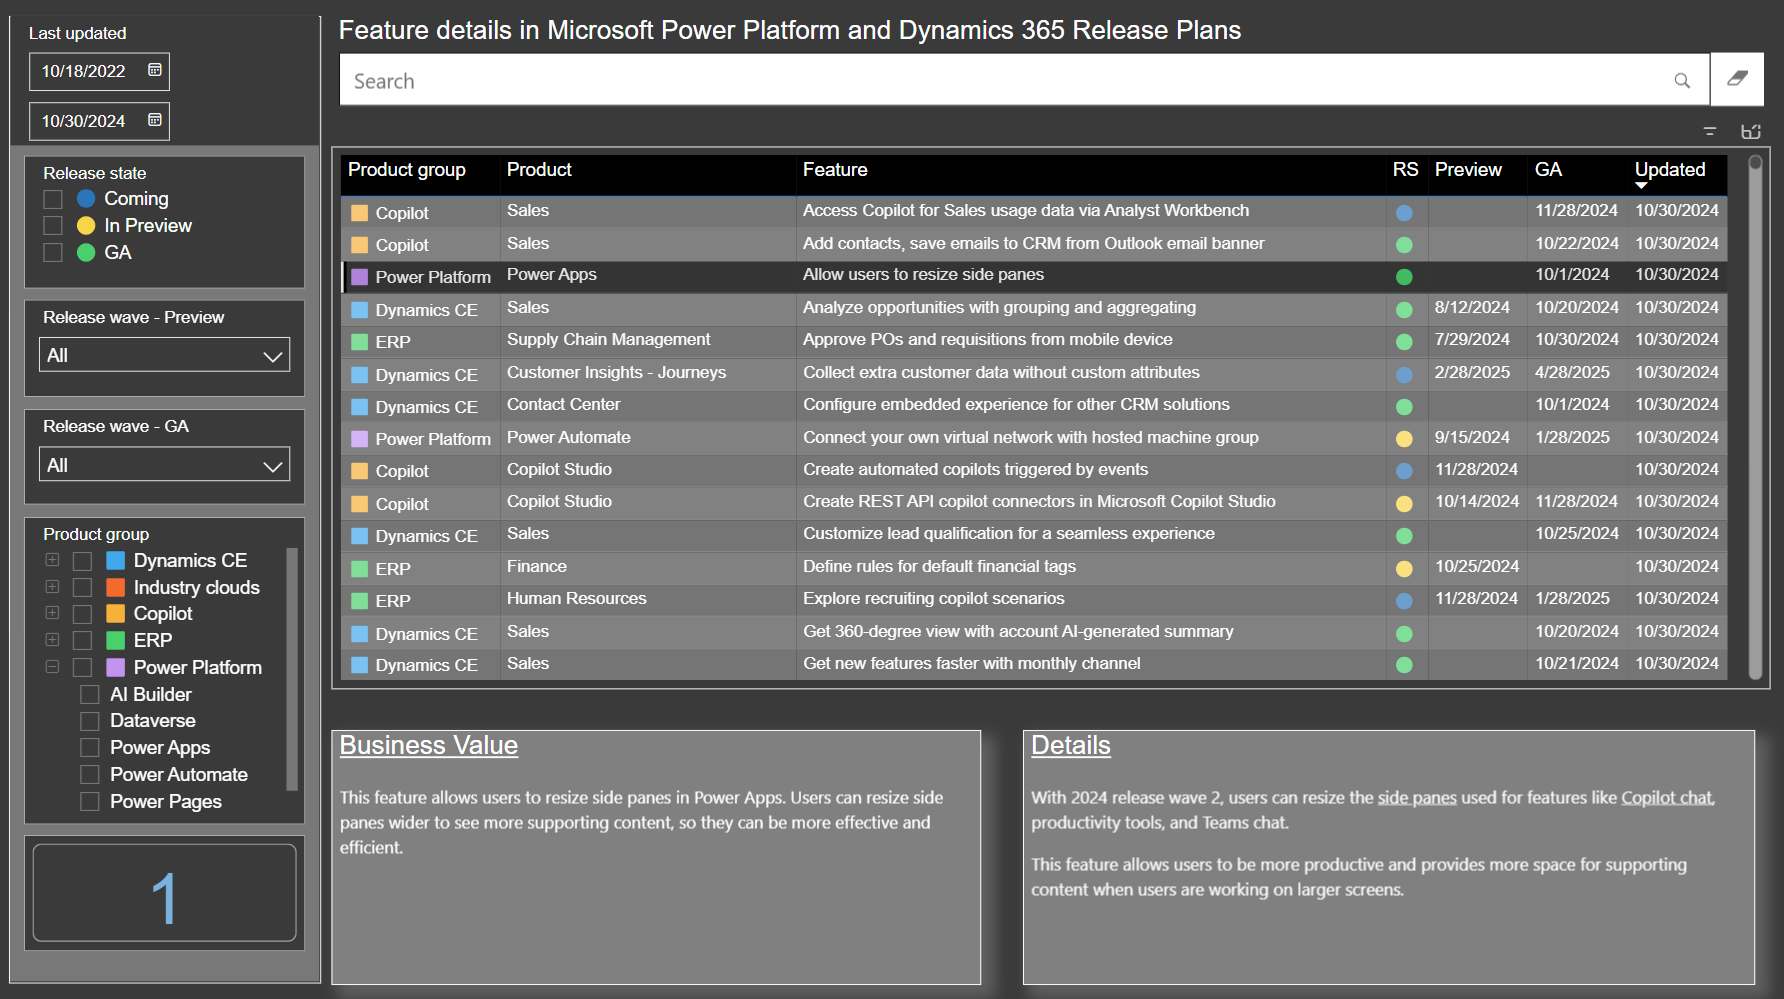

The dashboard page shown, as its layout file describes it:
{"tool":"powerbi","page":{"name":"Feature Details","canvas":[1280,720],"ordinal":0},"visuals":[{"type":"shape","box":[6.4,14.6,222,687.8],"z":0},{"type":"slicer","fields":{"Values":["ReleasePlans.Last updated"]},"box":[7.3,15.5,219.2,91.9],"z":1000},{"type":"htmlContent443BE3AD55E043BF878BED274D3A6865","title":"Details","fields":{"content":["ReleasePlans.First Feature details"]},"box":[727.8,522.2,520.4,181],"z":2000},{"type":"tableEx","fields":{"Values":["ReleasePlans.Product group","ReleasePlans.Product name - Short","ReleasePlans.Feature name","ReleasePlans.Release status Icon","ReleasePlans.Public preview date","ReleasePlans.GA date","ReleasePlans.Last updated"]},"box":[235.6,107.3,1023.5,385.7],"z":3000},{"type":"htmlContent443BE3AD55E043BF878BED274D3A6865","title":"Business Value","fields":{"content":["ReleasePlans.First Business Value"]},"box":[235.6,522.2,462.1,181],"z":4000},{"type":"slicer","fields":{"Values":["ReleasePlans.Product group","ReleasePlans.Product name - Short"]},"box":[17.3,370.9,200.1,218.3],"z":5000},{"type":"slicer","fields":{"Values":["ReleasePlans.Release status Icon and Text"]},"box":[17.3,113.7,200.1,94.6],"z":6000},{"type":"slicer","title":"RW GA","fields":{"Values":["ReleasePlans.GA Release Wave"]},"box":[17.3,294.3,200,68.2],"z":7000},{"type":"slicer","title":"RW Preview","fields":{"Values":["ReleasePlans.Public Preview Release Wave"]},"box":[17.3,216.7,200,69.1],"z":8000},{"type":"textFilter25A4896A83E0487089E2B90C9AE57C8A","fields":{"field":["ReleasePlans.Feature details"]},"box":[235.6,15.5,1023.5,77.3],"z":9000},{"type":"cardVisual","fields":{"Data":["CountNonNull(ReleasePlans.Release Plan ID)"]},"box":[17.3,597.7,200,82.8],"z":10000}]}

Visuals, with their boxes on the page's 1280x720 design canvas (x1, y1, x2, y2). These are canvas units, not pixel positions in the 1784x999 screenshot, which may show the page scaled, cropped or inside an application window:
shape: 6, 15, 228, 702
slicer - ReleasePlans.Last updated: 7, 16, 226, 107
"Details" htmlContent443BE3AD55E043BF878BED274D3A6865: 728, 522, 1248, 703
tableEx - ReleasePlans.Product group x ReleasePlans.Product name - Short: 236, 107, 1259, 493
"Business Value" htmlContent443BE3AD55E043BF878BED274D3A6865: 236, 522, 698, 703
slicer - ReleasePlans.Product group x ReleasePlans.Product name - Short: 17, 371, 217, 589
slicer - ReleasePlans.Release status Icon and Text: 17, 114, 217, 208
"RW GA" slicer: 17, 294, 217, 362
"RW Preview" slicer: 17, 217, 217, 286
textFilter25A4896A83E0487089E2B90C9AE57C8A - ReleasePlans.Feature details: 236, 16, 1259, 93
cardVisual - CountNonNull(ReleasePlans.Release Plan ID): 17, 598, 217, 680
